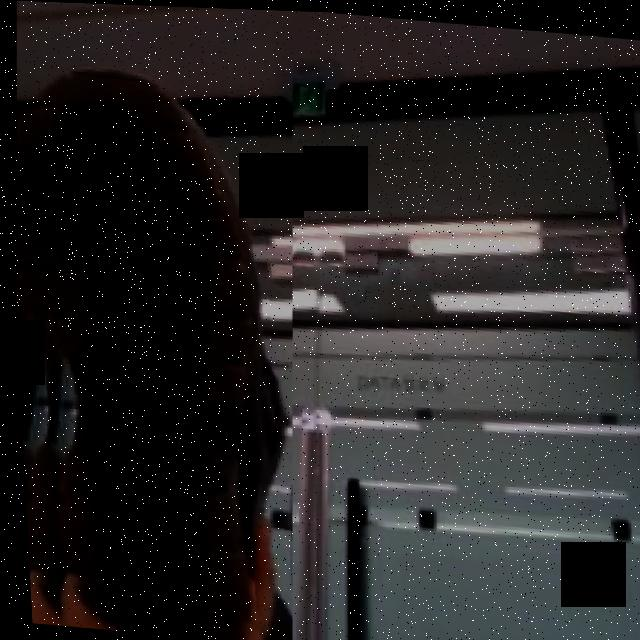shoe: (1, 21, 317, 640)
